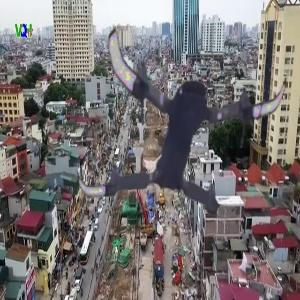drone: (79, 12, 290, 223)
